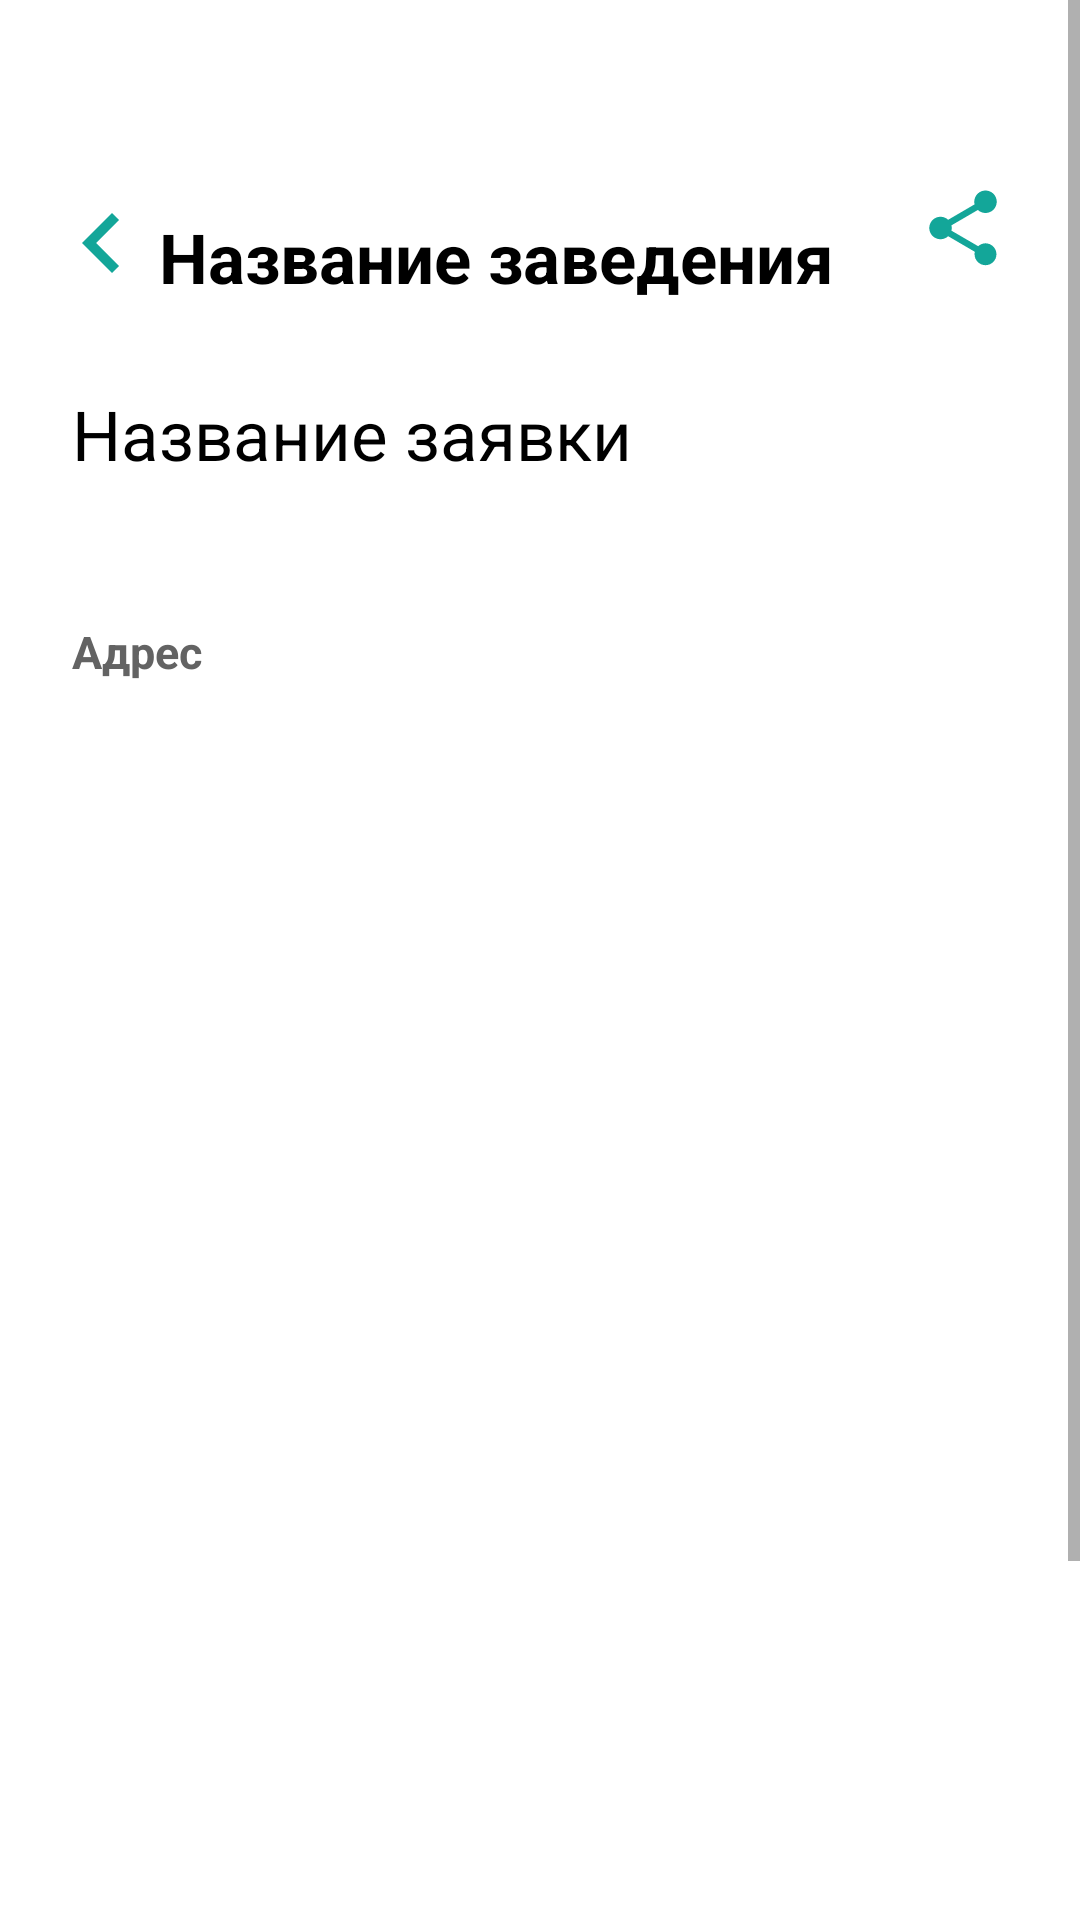

Where icons sit on this 1080×1920 app screen, as bbox=[x1, y1, x2, y2]:
chevron left: bbox=[82, 213, 119, 273]
share: bbox=[929, 190, 997, 266]
